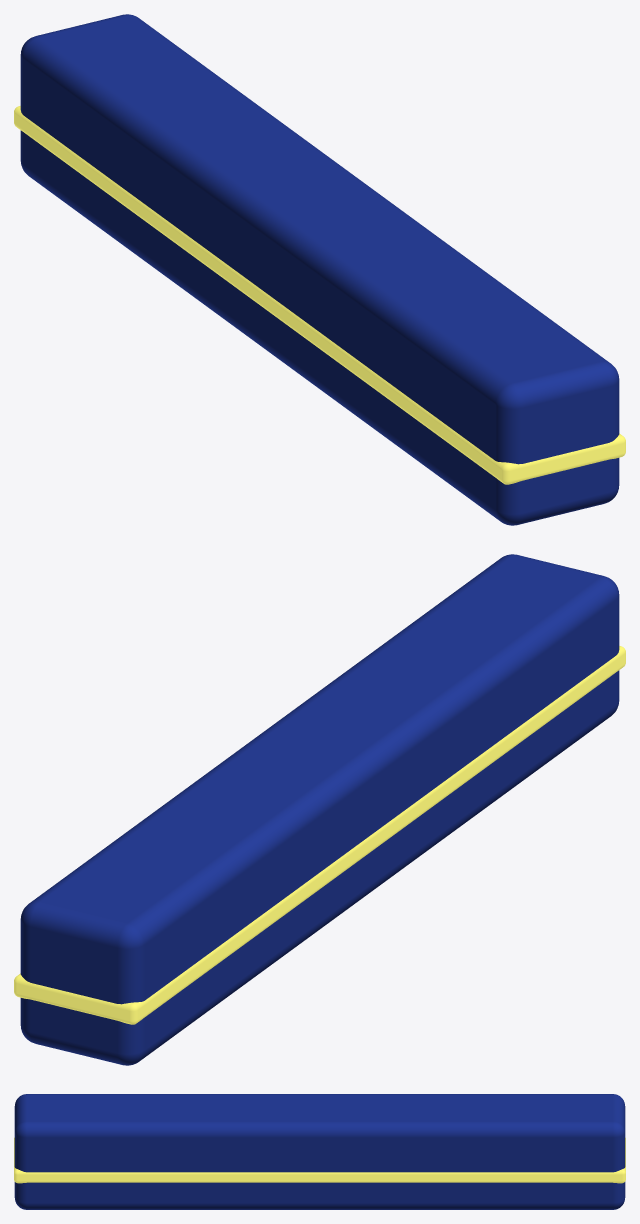
File: train-car.glb
3 views of the same model, one above another, from view 1: azimuth 30°, elevation 25°; view 2: azimuth 150°, elevation 25°; view 3: azimuth 270°, elevation 25° (orthographic). The views are drawn at different scales.
Size of the model in its own units: 2.75 by 3 by 19.05.
